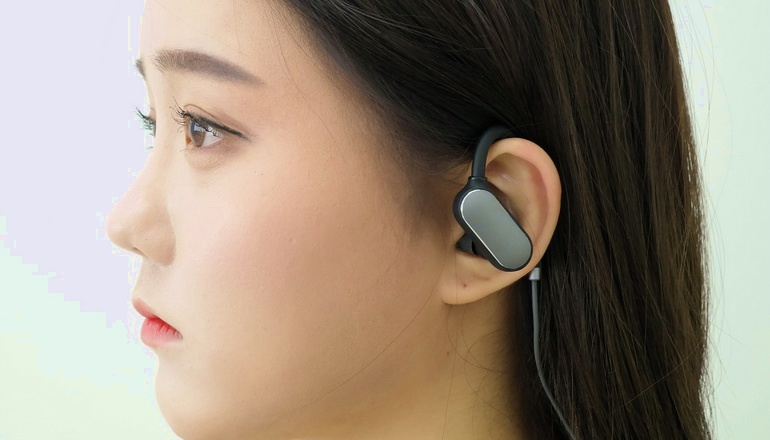earphone: (441, 137, 562, 306)
